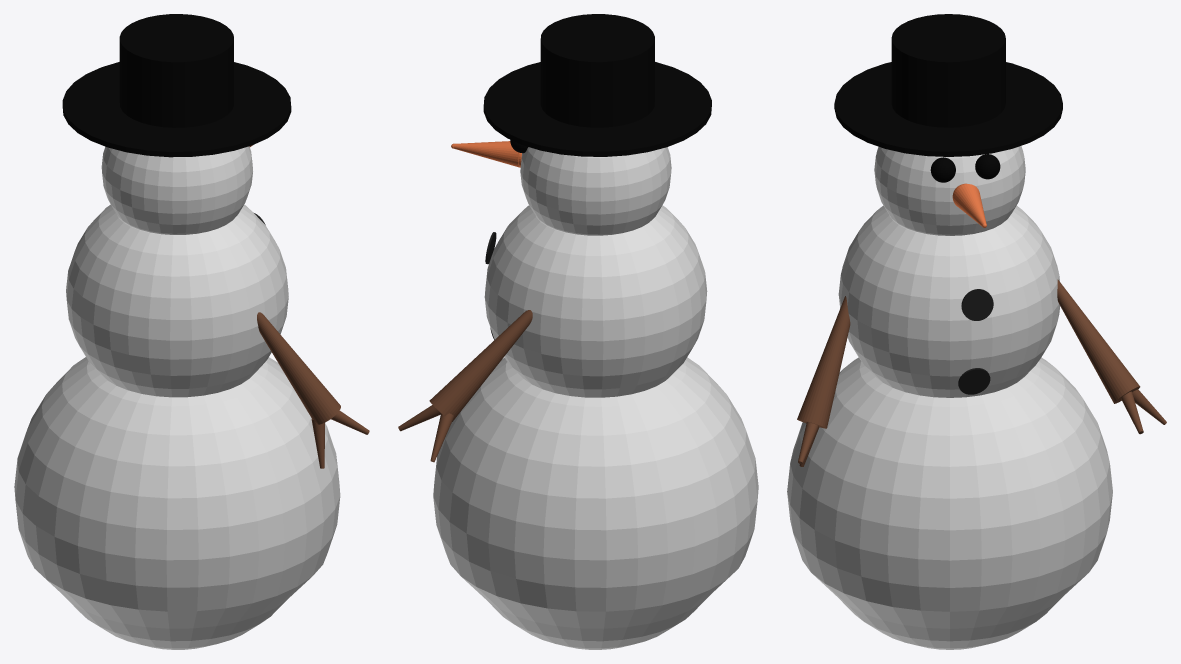
The model's file is snowman.fbx.
3 renders of one model, left to right at view 1: azimuth 30°, elevation 25°; view 2: azimuth 150°, elevation 25°; view 3: azimuth 270°, elevation 25°, orthographic.
Parts seen in each view (by area): view 1: Snowman; view 2: Snowman; view 3: Snowman.
Part boxes in pixels (left/top/right/bottom): Snowman: left=14, top=14, right=369, bottom=649; Snowman: left=398, top=14, right=758, bottom=649; Snowman: left=787, top=14, right=1166, bottom=649.
Bounding box in the file's own units: 400 × 810 × 467.
